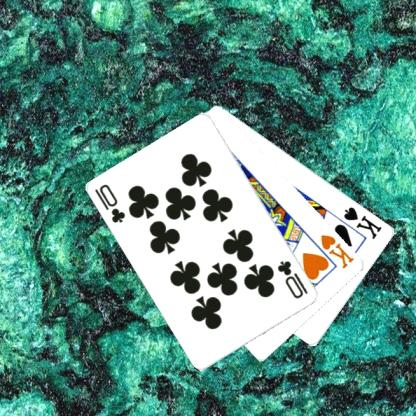10C: (92, 181, 127, 225), (275, 258, 310, 300)
KH: (318, 232, 356, 270)
KS: (341, 204, 384, 240)
